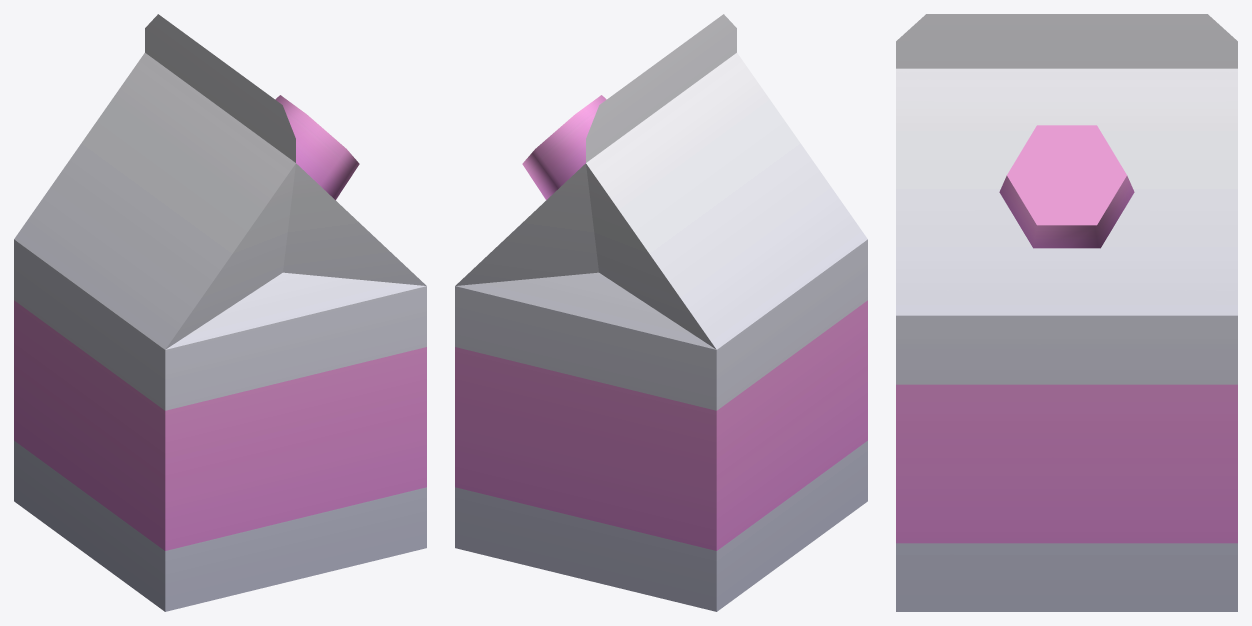
Rendered from carton-small.glb.
The picture shows the model from 3 angles, left to right: view 1: azimuth 30°, elevation 25°; view 2: azimuth 150°, elevation 25°; view 3: azimuth 270°, elevation 25°; orthographic projection. The views are drawn at different scales.
Parts seen in each view (by area): view 1: carton-small; view 2: carton-small; view 3: carton-small.
Part boxes in pixels (x1=…): carton-small: x1=14, y1=14, x2=426, y2=611; carton-small: x1=455, y1=14, x2=867, y2=611; carton-small: x1=896, y1=14, x2=1237, y2=611.
Size of the model in its own units: 0.23 by 0.3905 by 0.23.
Materials: 1 (1 with a texture image).
